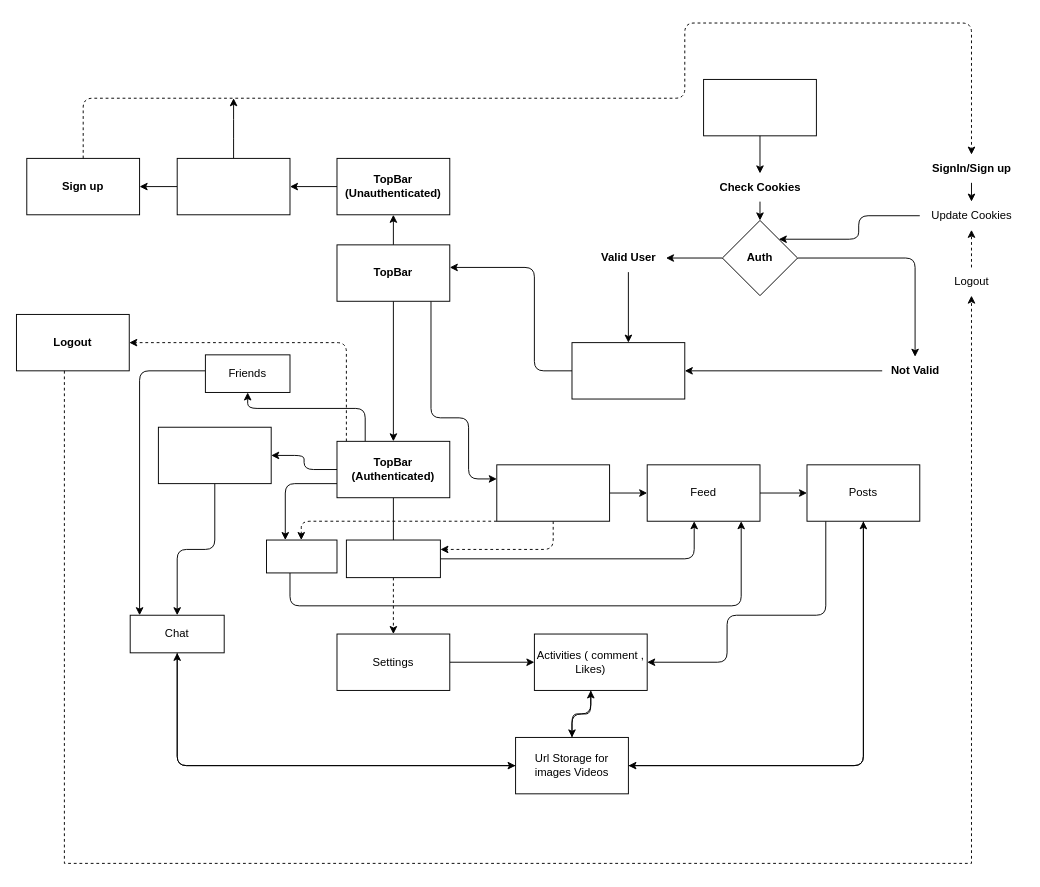
Some shapes in this 1040 by 887 pixel diagram are drawn without their labels. The centre of each missing label's shape, as x and y in pixels:
Converstions: pixel 214 455
Groups: pixel 301 556
Home Screen: pixel 628 370
Open Site: pixel 759 107
Profile: pixel 392 558
SearchBar: pixel 553 492
Sign In Page: pixel 233 186
